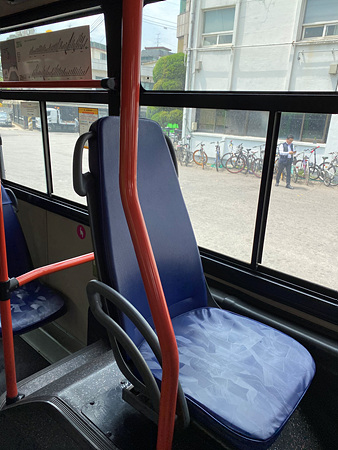seat: (89, 111, 315, 434)
